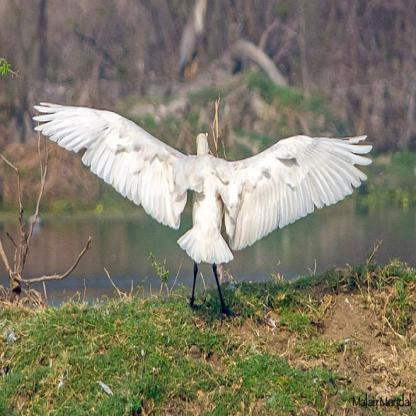Burung: (31, 101, 372, 310)
